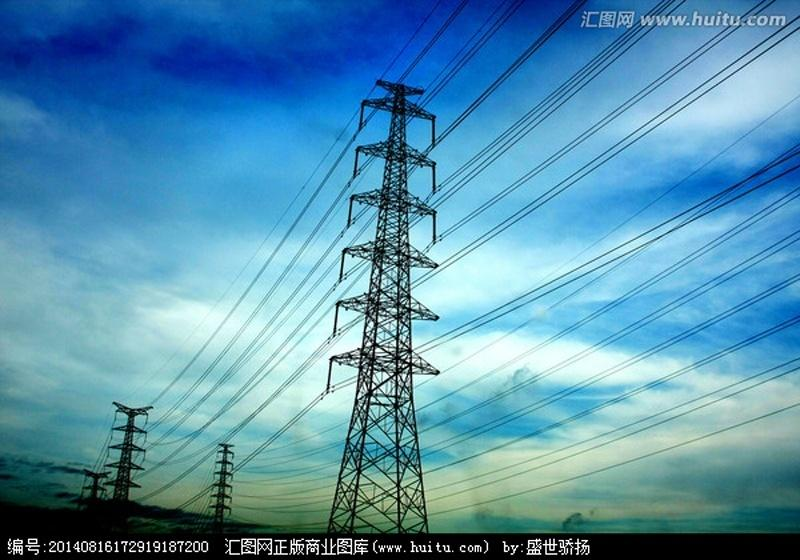power_tower: (316, 71, 453, 524), (108, 391, 149, 507), (201, 427, 237, 532)
